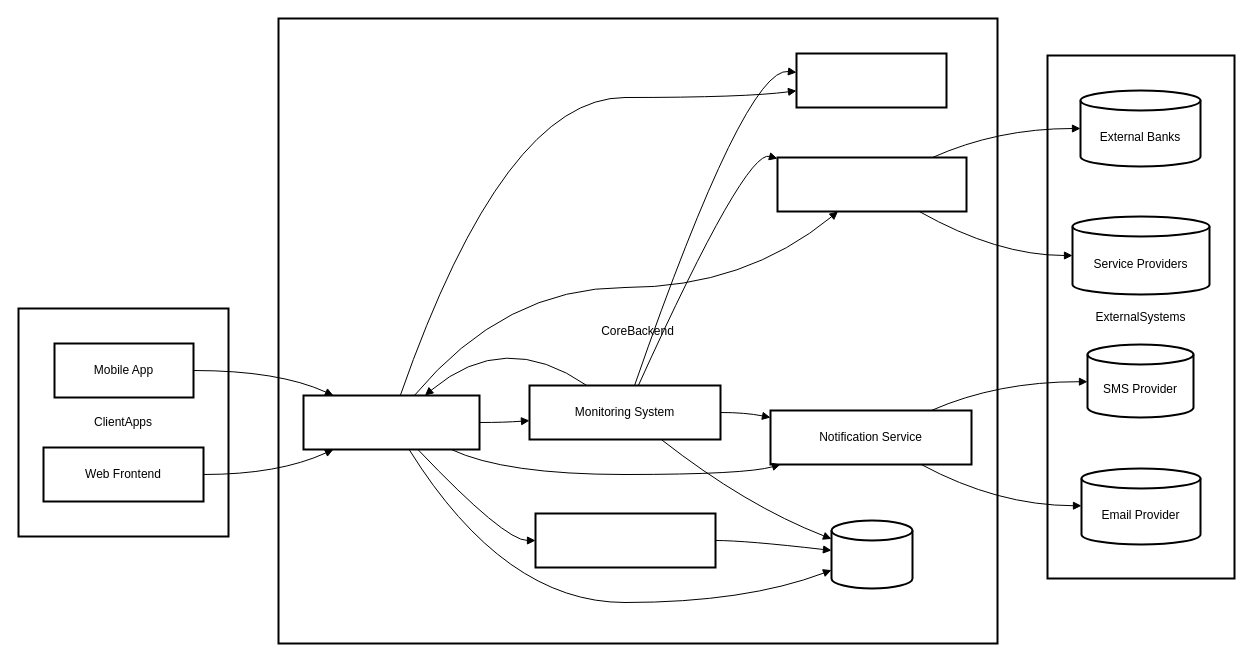
Image size: 1252x661. Some labels were removed from this diagram. Each missing label, with the centre of its shape:
"Analytics Module" belongs at pixel 625 540.
"Auth Service" belongs at pixel 871 80.
"Backend Service" belongs at pixel 391 422.
"Database" belongs at pixel 871 554.
"Payment Gateway" belongs at pixel 871 184.
